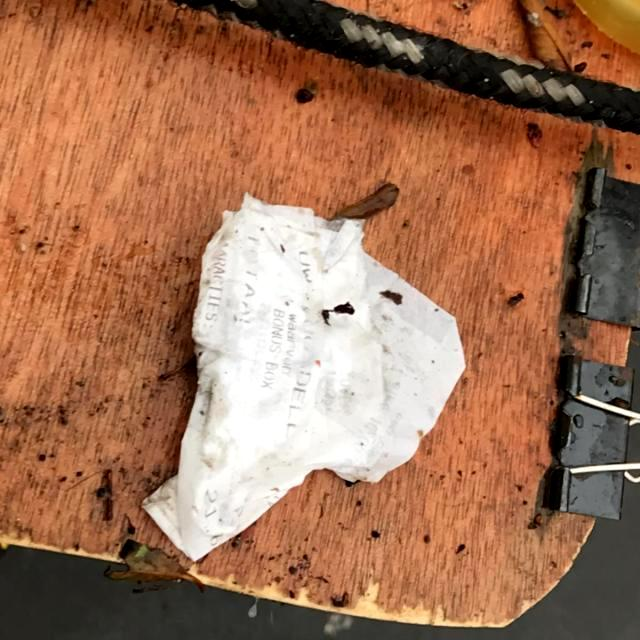Paper: (137, 188, 469, 566)
